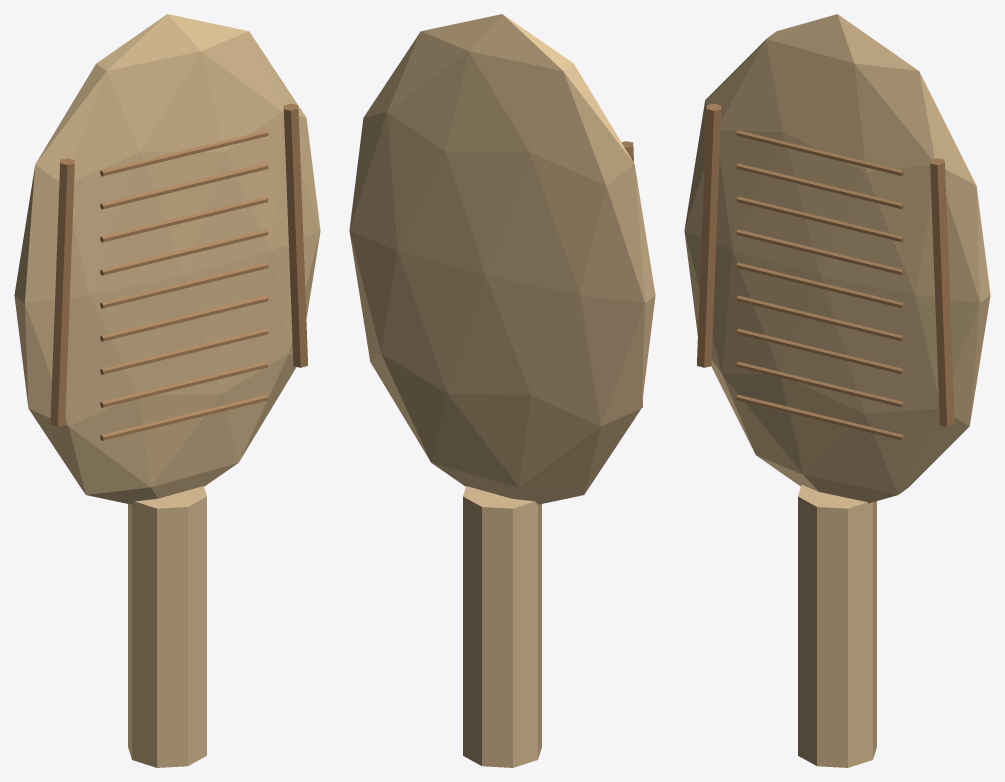
The model's file is kitchen_shamoji.glb.
3 renders of one model, left to right at view 1: azimuth 30°, elevation 25°; view 2: azimuth 150°, elevation 25°; view 3: azimuth 330°, elevation 25°, orthographic.
Visible parts, largest first — view 1: Wide flattened shamoji blade, Carved rice paddle neck_01, Carved rice paddle neck_00, Rice paddle carved outline, Rice paddle carved outline.001, Rough wooden grain.007, Rough wooden grain, Rough wooden grain.008, Rough wooden grain.001, Rough wooden grain.004, Rough wooden grain.005, Rough wooden grain.006 (+2 smaller); view 2: Wide flattened shamoji blade, Carved rice paddle neck_01, Carved rice paddle neck_00; view 3: Wide flattened shamoji blade, Carved rice paddle neck_01, Carved rice paddle neck_00, Rice paddle carved outline.001, Rice paddle carved outline, Rough wooden grain.007, Rough wooden grain, Rough wooden grain.008, Rough wooden grain.001, Rough wooden grain.004, Rough wooden grain.005, Rough wooden grain.006 (+2 smaller).
Part boxes in pixels (box(x1,y1,x2,y2)): Wide flattened shamoji blade: box(14, 14, 320, 504); Carved rice paddle neck_01: box(128, 486, 206, 645); Carved rice paddle neck_00: box(128, 625, 206, 767); Rice paddle carved outline: box(50, 158, 74, 426); Rice paddle carved outline.001: box(283, 103, 307, 367); Rough wooden grain.007: box(100, 163, 268, 209); Rough wooden grain: box(100, 394, 268, 440); Rough wooden grain.008: box(100, 130, 268, 176); Rough wooden grain.001: box(100, 361, 268, 407); Rough wooden grain.004: box(100, 262, 268, 308); Rough wooden grain.005: box(100, 229, 268, 275); Rough wooden grain.006: box(100, 196, 268, 242); Wide flattened shamoji blade: box(349, 14, 655, 504); Carved rice paddle neck_01: box(463, 486, 541, 645); Carved rice paddle neck_00: box(463, 625, 541, 767); Wide flattened shamoji blade: box(684, 14, 990, 503); Carved rice paddle neck_01: box(798, 485, 876, 645); Carved rice paddle neck_00: box(798, 625, 876, 767); Rice paddle carved outline.001: box(930, 158, 954, 426); Rice paddle carved outline: box(697, 103, 721, 367); Rough wooden grain.007: box(736, 163, 904, 209); Rough wooden grain: box(736, 394, 904, 440); Rough wooden grain.008: box(736, 130, 904, 176); Rough wooden grain.001: box(736, 361, 904, 407); Rough wooden grain.004: box(736, 262, 904, 308); Rough wooden grain.005: box(736, 229, 904, 275); Rough wooden grain.006: box(736, 196, 904, 242).
Size of the model in its own units: 0.8186 by 1.95 by 0.1963.
